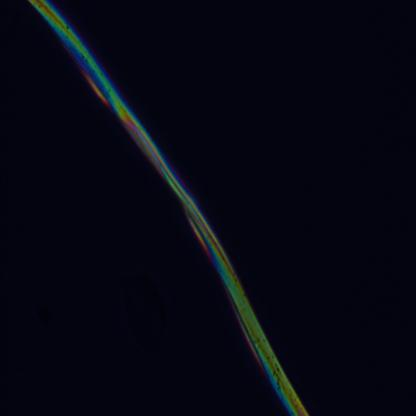Microfibre: (26, 1, 310, 415)
